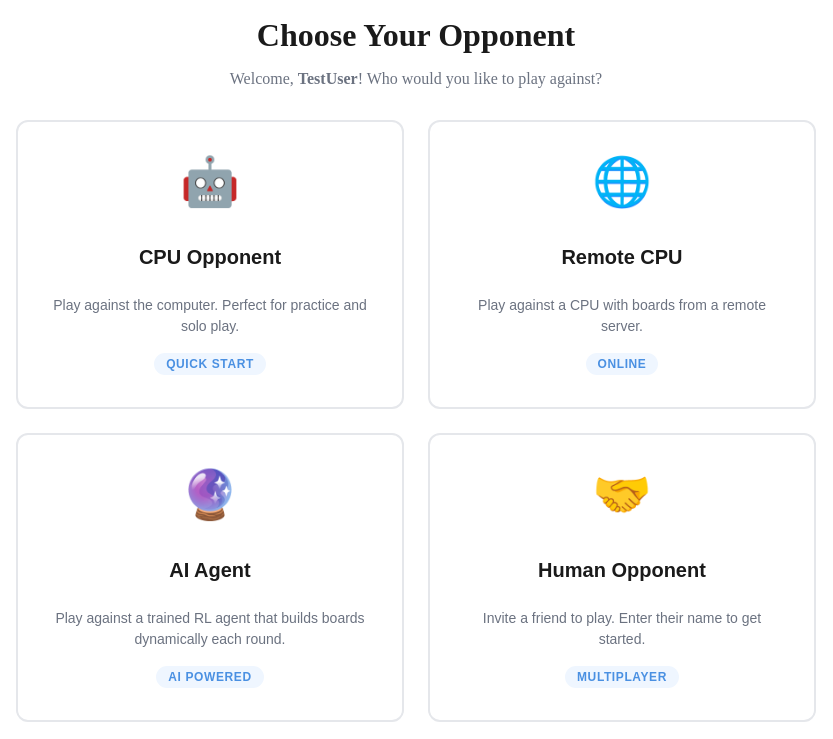
Scenario: OpponentManager › Human opponent selection flow › should show name input screen when human opponent clicked
This screenshot has width=833, height=739.
Click the button with aria-label "Play against human opponent".
click(622, 577)  # box x1=428 y1=432 x2=816 y2=722
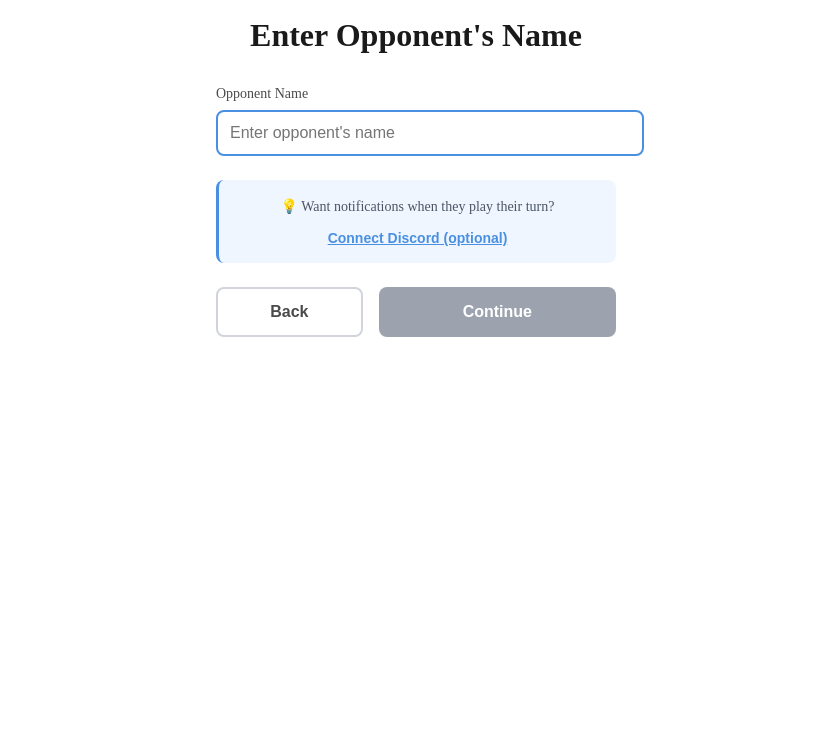
Check: the heading "Enter Opponent's Name" is shown, box x1=250 y1=16 x2=582 y2=52
Check: the field labelled "Opponent Name" is shown, box x1=216 y1=110 x2=644 y2=156
